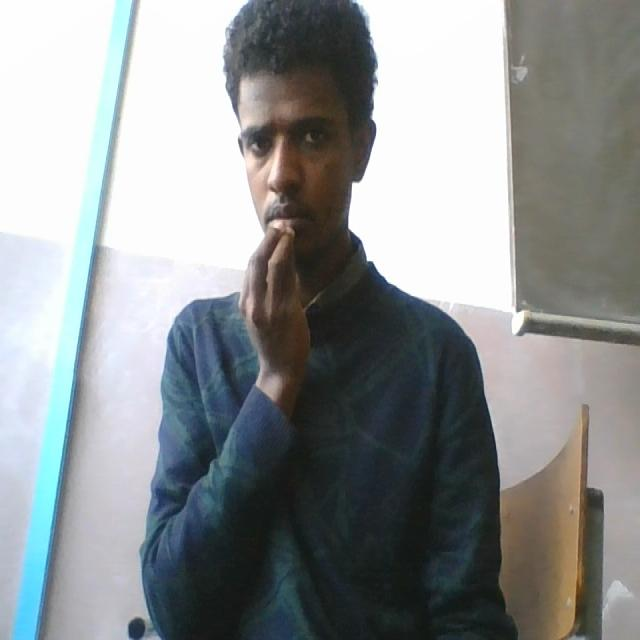meblat: (233, 200, 337, 406)
